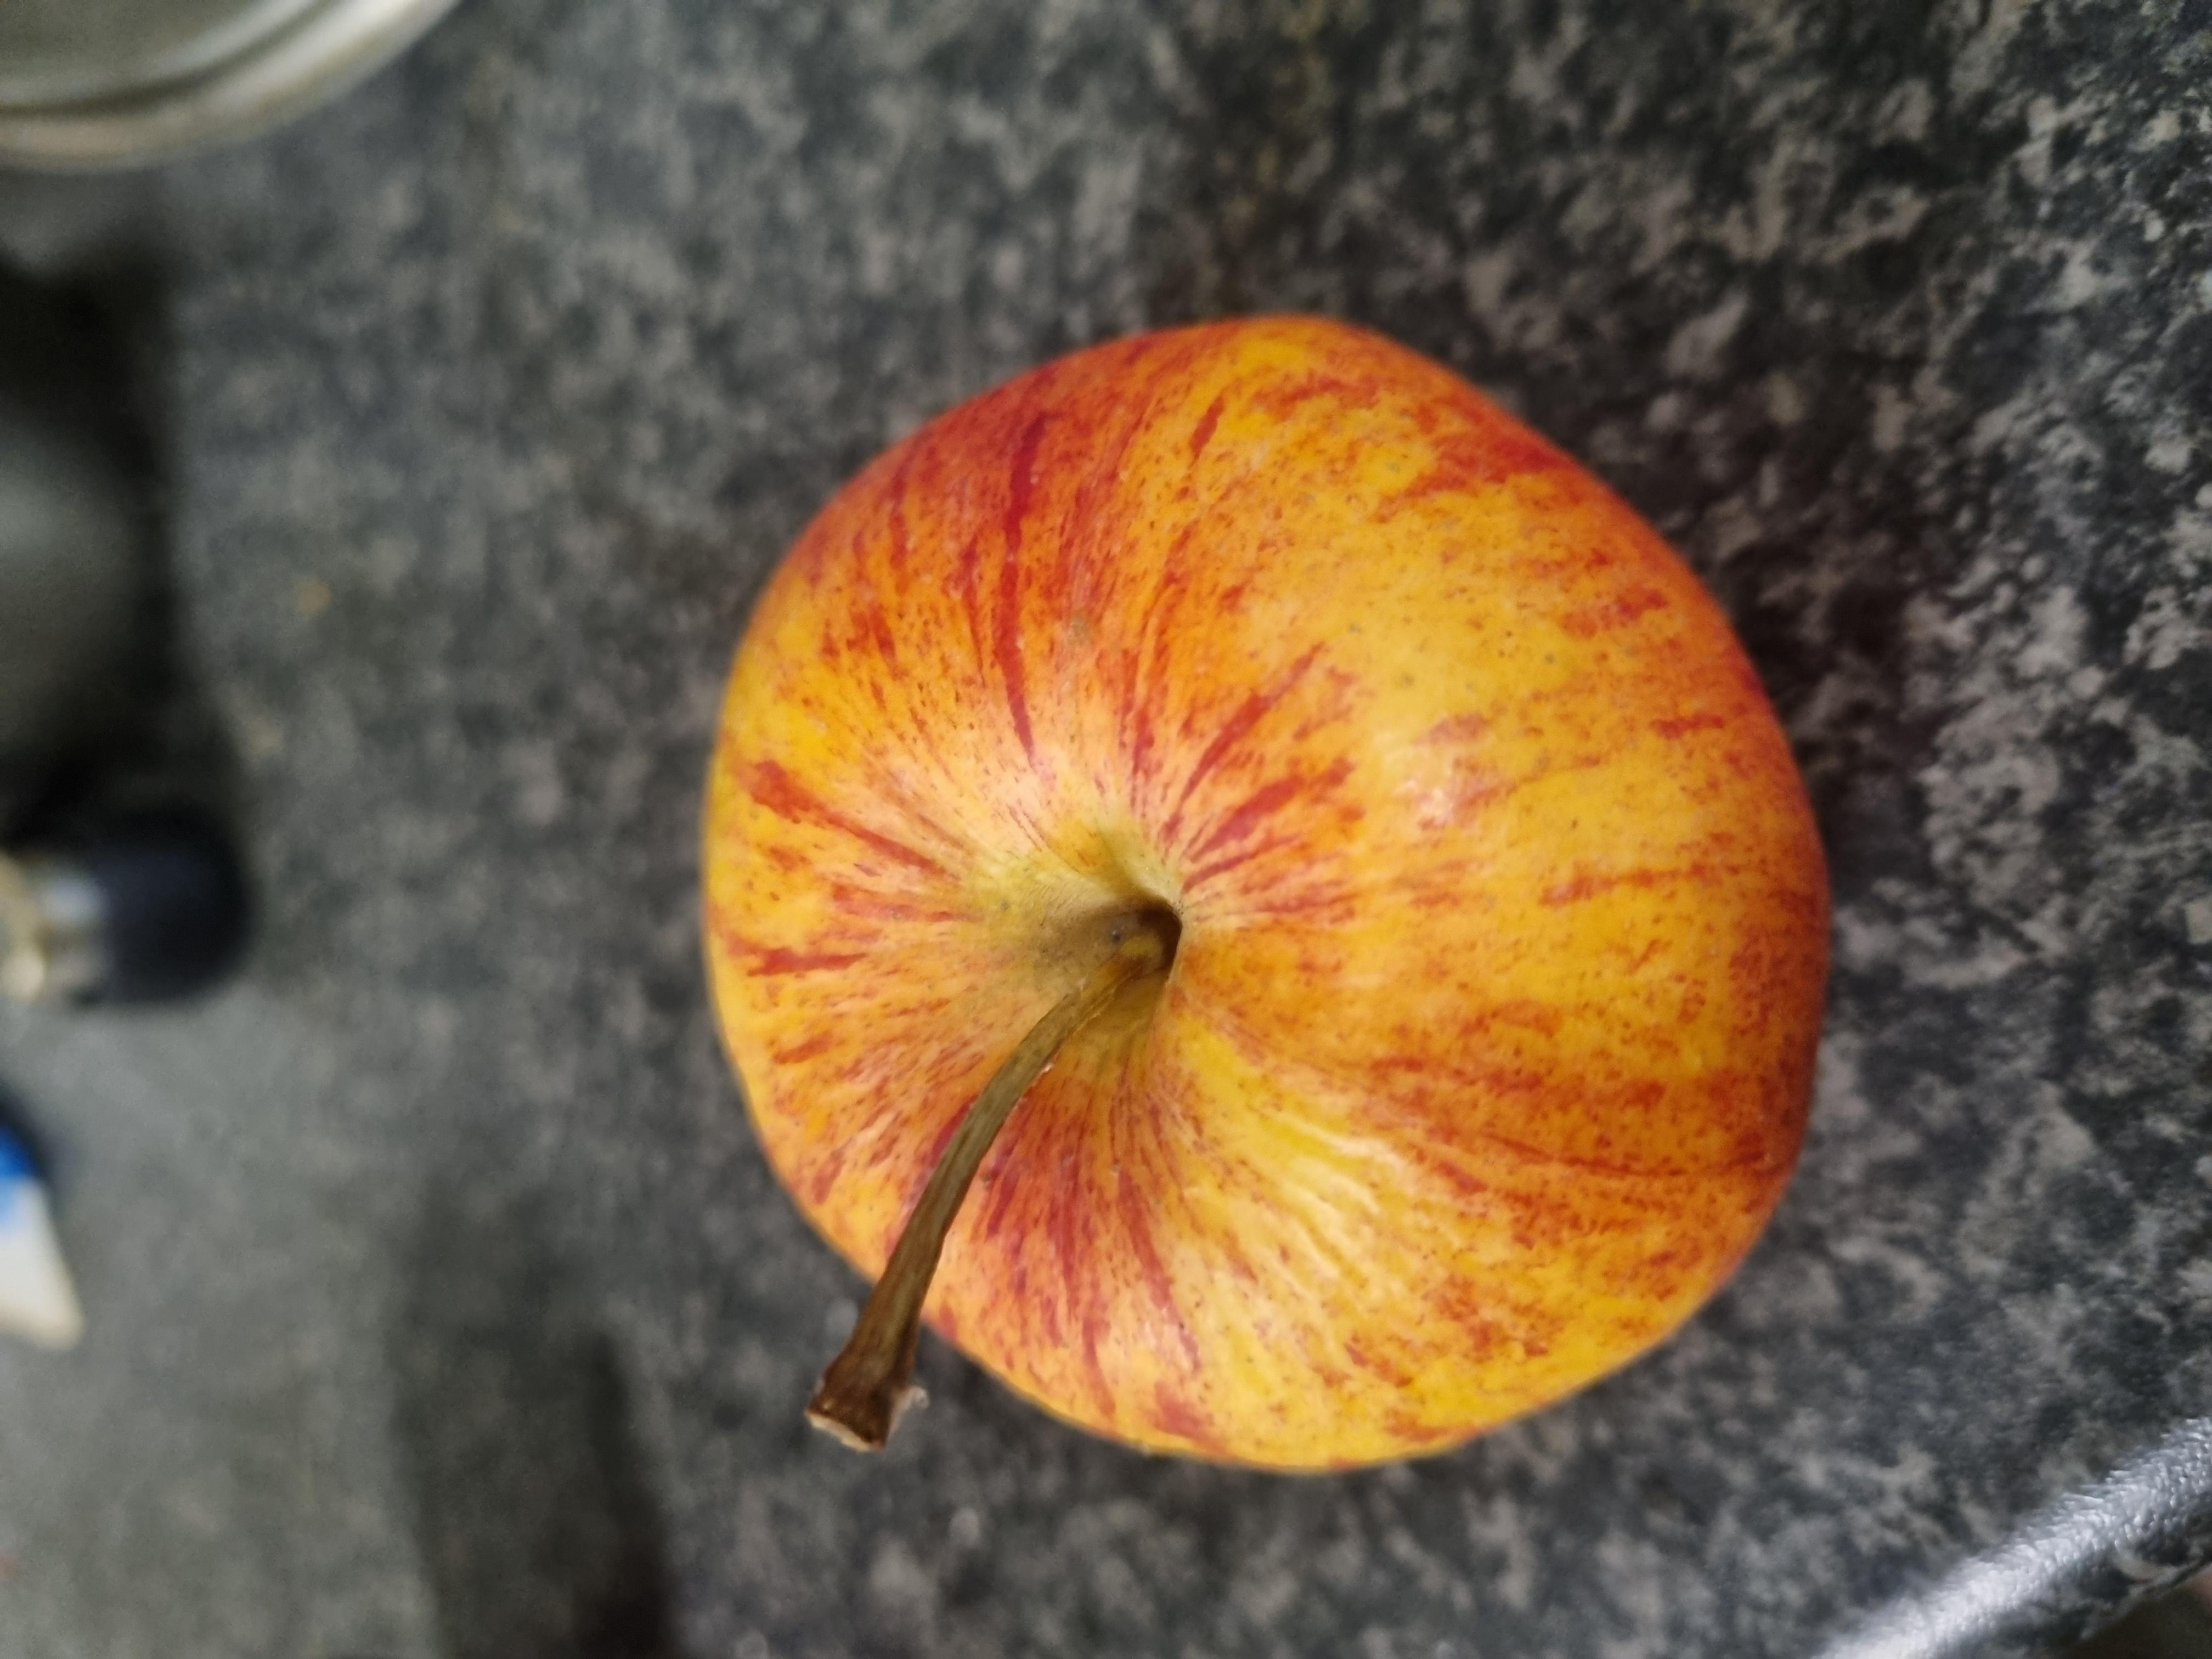Apple: (192, 483, 1869, 1398)
